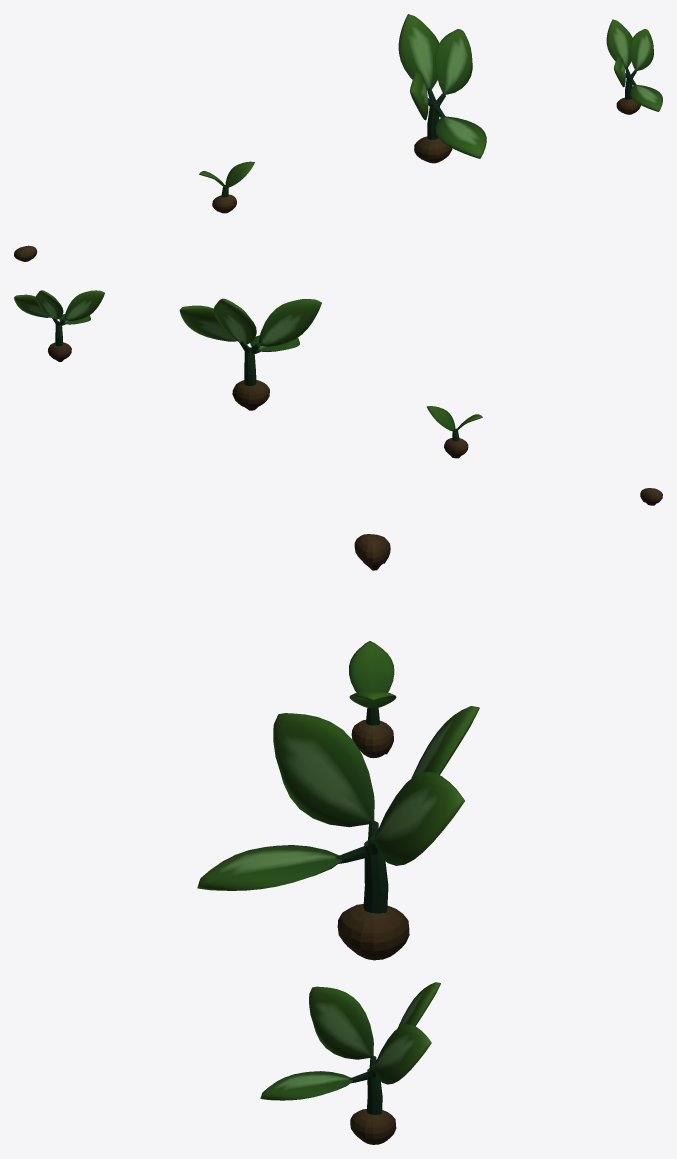
3 renders of one model, top to bottom at view 1: azimuth 30°, elevation 25°; view 2: azimuth 150°, elevation 25°; view 3: azimuth 270°, elevation 25°, orthographic. The views are drawn at different scales.
Visible parts, largest first — view 1: D_3, D_4, D_2; view 2: D_3, D_4, D_2; view 3: D_3, D_4, D_2, D_1.
Boxes of the visible parts, x1=… form: D_3: x1=398, y1=14, x2=486, y2=163; D_4: x1=606, y1=19, x2=662, y2=114; D_2: x1=199, y1=161, x2=254, y2=213; D_3: x1=179, y1=298, x2=321, y2=410; D_4: x1=14, y1=290, x2=104, y2=361; D_2: x1=426, y1=406, x2=482, y2=458; D_3: x1=197, y1=706, x2=479, y2=960; D_4: x1=260, y1=982, x2=440, y2=1144; D_2: x1=349, y1=641, x2=396, y2=758; D_1: x1=354, y1=534, x2=390, y2=570.
Size of the model in its own units: 321 by 60 by 61.9.
